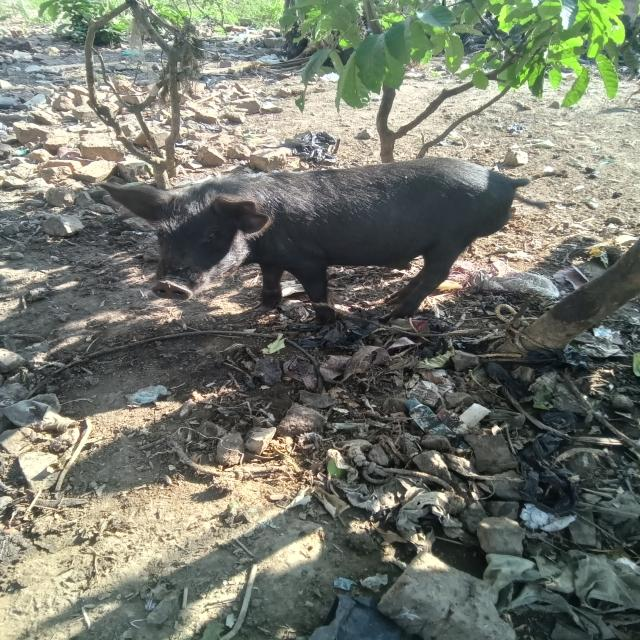pig: (61, 104, 593, 409)
